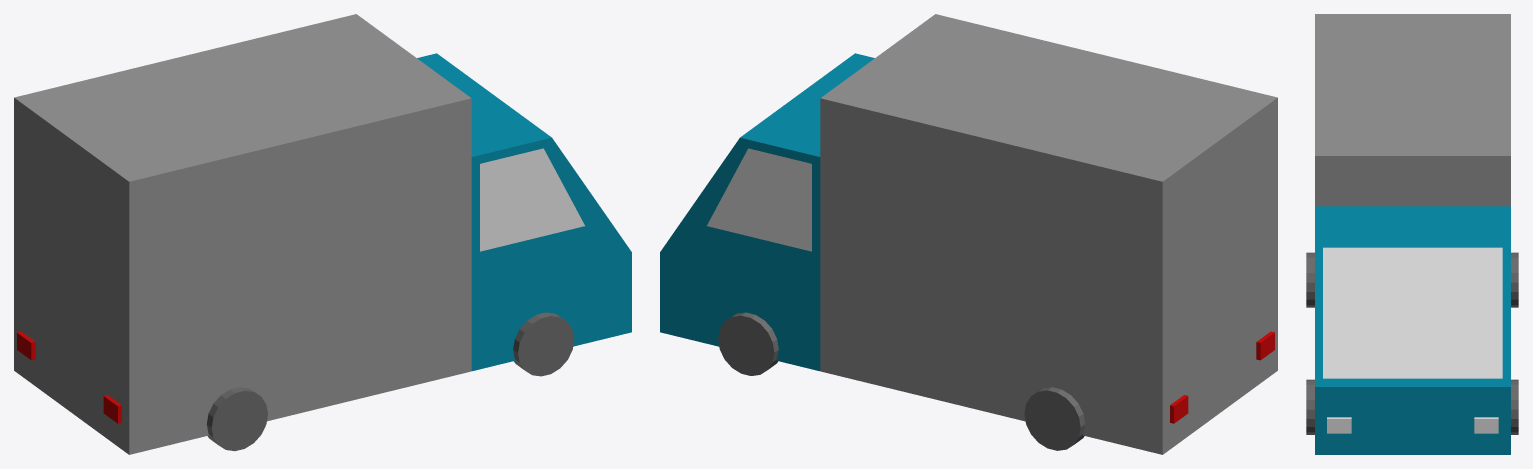
The model's file is Blue Truck.fbx.
The picture shows the model from 3 angles, left to right: view 1: azimuth 30°, elevation 25°; view 2: azimuth 150°, elevation 25°; view 3: azimuth 270°, elevation 25°; orthographic projection. The views are drawn at different scales.
Parts seen in each view (by area): view 1: Truck; view 2: Truck; view 3: Truck.
Part boxes in pixels (x1,y1,x2,y2): Truck: [14, 14, 631, 454]; Truck: [660, 14, 1277, 454]; Truck: [1306, 14, 1518, 454].
Size of the model in its own units: 12272 by 6663 by 5185.
